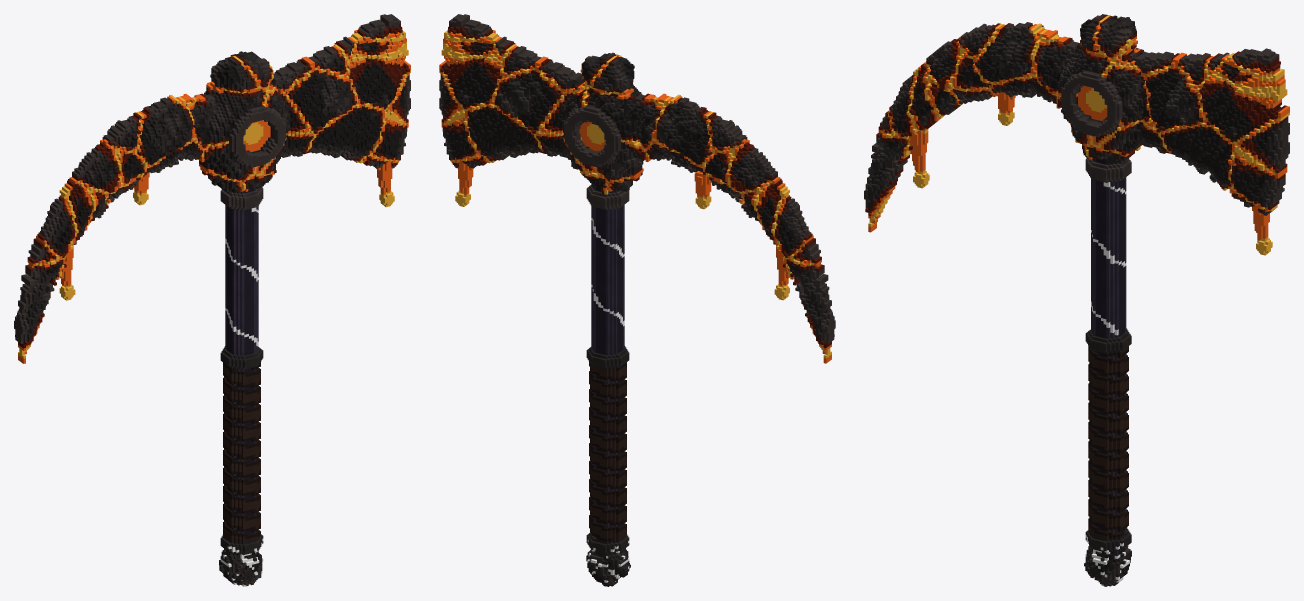
The model's file is PiocheVolcan.fbx.
3 renders of one model, left to right at view 1: azimuth 30°, elevation 25°; view 2: azimuth 150°, elevation 25°; view 3: azimuth 330°, elevation 25°, orthographic. The views are drawn at different scales.
Visible parts, largest first — view 1: PiocheVolcan_Tete_Rochea, PiocheVolcan_Tete_Rocheb, PiocheVolcan_Tete_Lueur, PiocheVolcan_Manche_Cuir, PiocheVolcan_Manche_Obsidienne, PiocheVolcan_Manche_Roche, PiocheVolcan_Manche_Lueur; view 2: PiocheVolcan_Tete_Rochea, PiocheVolcan_Tete_Rocheb, PiocheVolcan_Tete_Lueur, PiocheVolcan_Manche_Cuir, PiocheVolcan_Manche_Obsidienne, PiocheVolcan_Manche_Roche, PiocheVolcan_Manche_Lueur; view 3: PiocheVolcan_Tete_Rocheb, PiocheVolcan_Tete_Rochea, PiocheVolcan_Tete_Lueur, PiocheVolcan_Manche_Cuir, PiocheVolcan_Manche_Obsidienne, PiocheVolcan_Manche_Roche, PiocheVolcan_Manche_Lueur.
Boxes of the visible parts, x1=… form: PiocheVolcan_Tete_Rochea: x1=14, y1=56, x2=262, y2=348; PiocheVolcan_Tete_Rocheb: x1=230, y1=14, x2=410, y2=188; PiocheVolcan_Tete_Lueur: x1=18, y1=30, x2=410, y2=363; PiocheVolcan_Manche_Cuir: x1=223, y1=362, x2=260, y2=542; PiocheVolcan_Manche_Obsidienne: x1=225, y1=187, x2=258, y2=551; PiocheVolcan_Manche_Roche: x1=219, y1=188, x2=263, y2=586; PiocheVolcan_Manche_Lueur: x1=220, y1=207, x2=263, y2=586; PiocheVolcan_Tete_Rochea: x1=587, y1=56, x2=835, y2=347; PiocheVolcan_Tete_Rocheb: x1=439, y1=14, x2=618, y2=190; PiocheVolcan_Tete_Lueur: x1=439, y1=29, x2=831, y2=363; PiocheVolcan_Manche_Cuir: x1=589, y1=361, x2=626, y2=541; PiocheVolcan_Manche_Obsidienne: x1=591, y1=183, x2=624, y2=554; PiocheVolcan_Manche_Roche: x1=586, y1=185, x2=630, y2=586; PiocheVolcan_Manche_Lueur: x1=587, y1=218, x2=629, y2=582; PiocheVolcan_Tete_Rocheb: x1=1081, y1=15, x2=1289, y2=215; PiocheVolcan_Tete_Rochea: x1=864, y1=14, x2=1110, y2=215; PiocheVolcan_Tete_Lueur: x1=868, y1=15, x2=1289, y2=255; PiocheVolcan_Manche_Cuir: x1=1088, y1=345, x2=1128, y2=538; PiocheVolcan_Manche_Obsidienne: x1=1091, y1=158, x2=1126, y2=556; PiocheVolcan_Manche_Roche: x1=1084, y1=158, x2=1131, y2=586; PiocheVolcan_Manche_Lueur: x1=1085, y1=182, x2=1129, y2=585.
Size of the model in its own units: 6.32 by 8.24 by 1.04.
